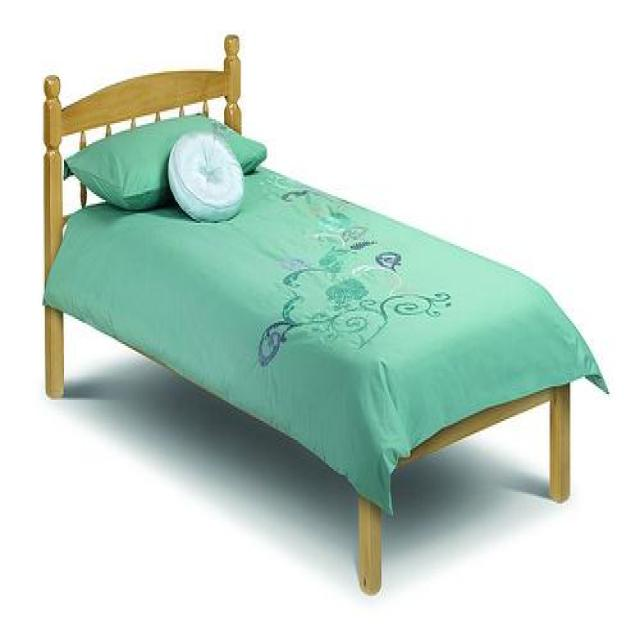bed: (41, 32, 609, 596)
